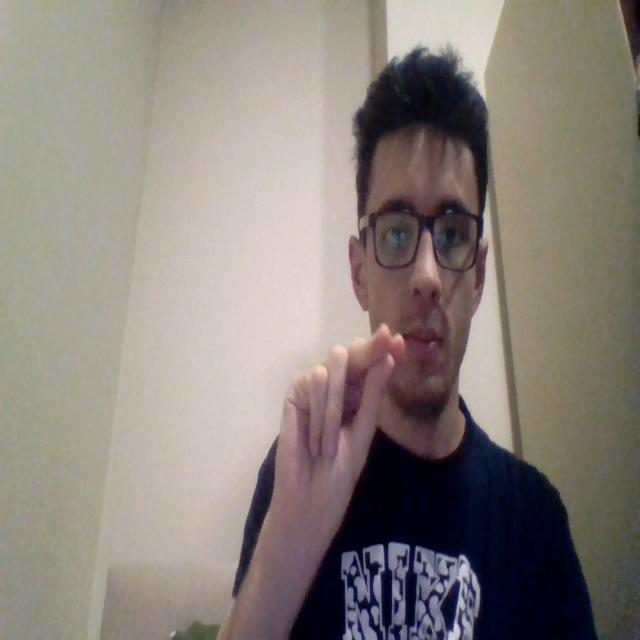no: (271, 321, 404, 529)
